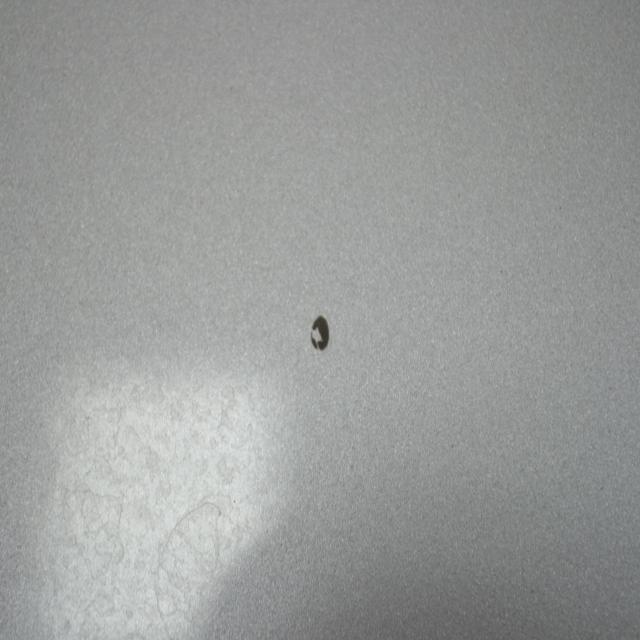dirt: (300, 302, 336, 358)
water marks: (68, 368, 177, 492), (48, 490, 139, 634), (154, 495, 233, 640), (185, 376, 263, 492)
